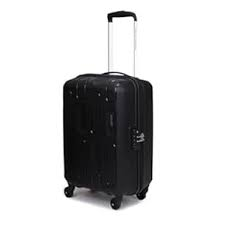suitcase: (58, 11, 157, 211)
